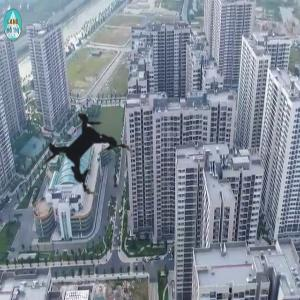drone: (16, 79, 160, 223)
